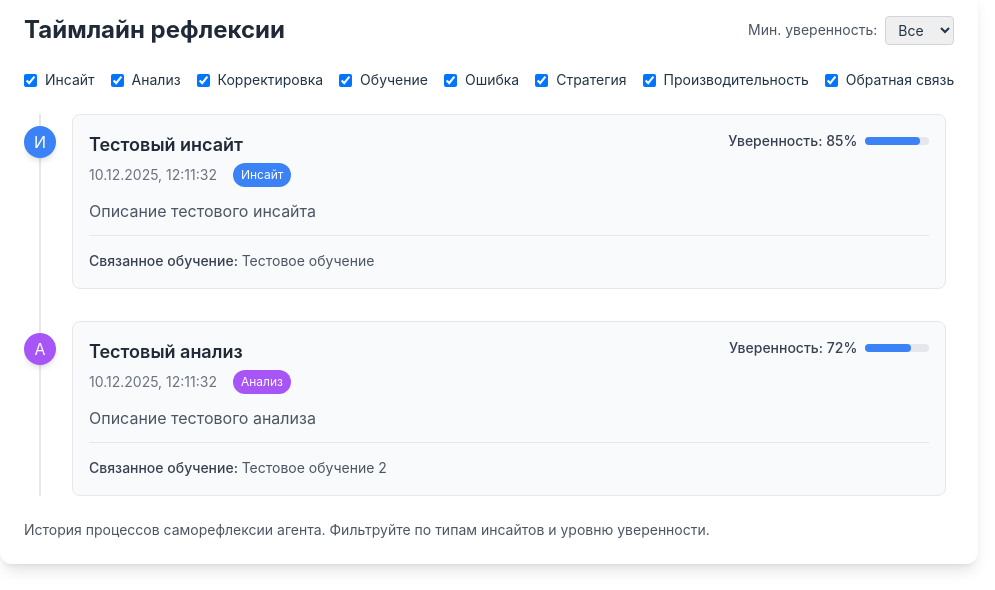
Test: ReflectionTimeline › filters reflections by type
Expected: the heading "Тестовый инсайт" is shown, [89,134,243,155]
Expected: the heading "Тестовый анализ" is shown, [89,341,243,362]
# Снимаем флажок с типа 'insight'
Step 1. Click the checkbox labelled "Инсайт" → click(30, 80), box [24,74,37,86]
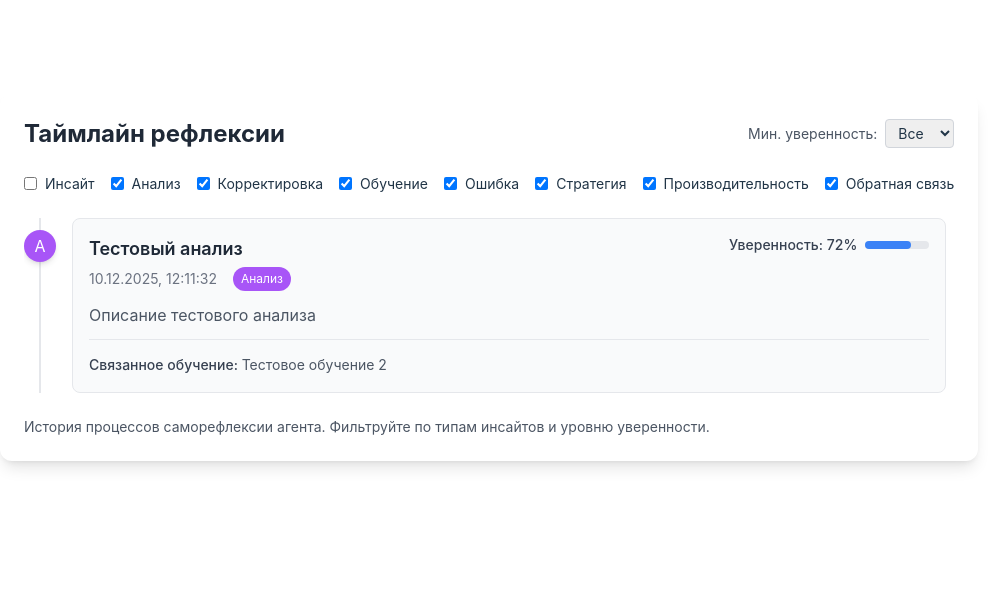
Expected: the heading "Тестовый анализ" is shown, [89,238,243,258]
Result: the heading "Тестовый инсайт" is gone
